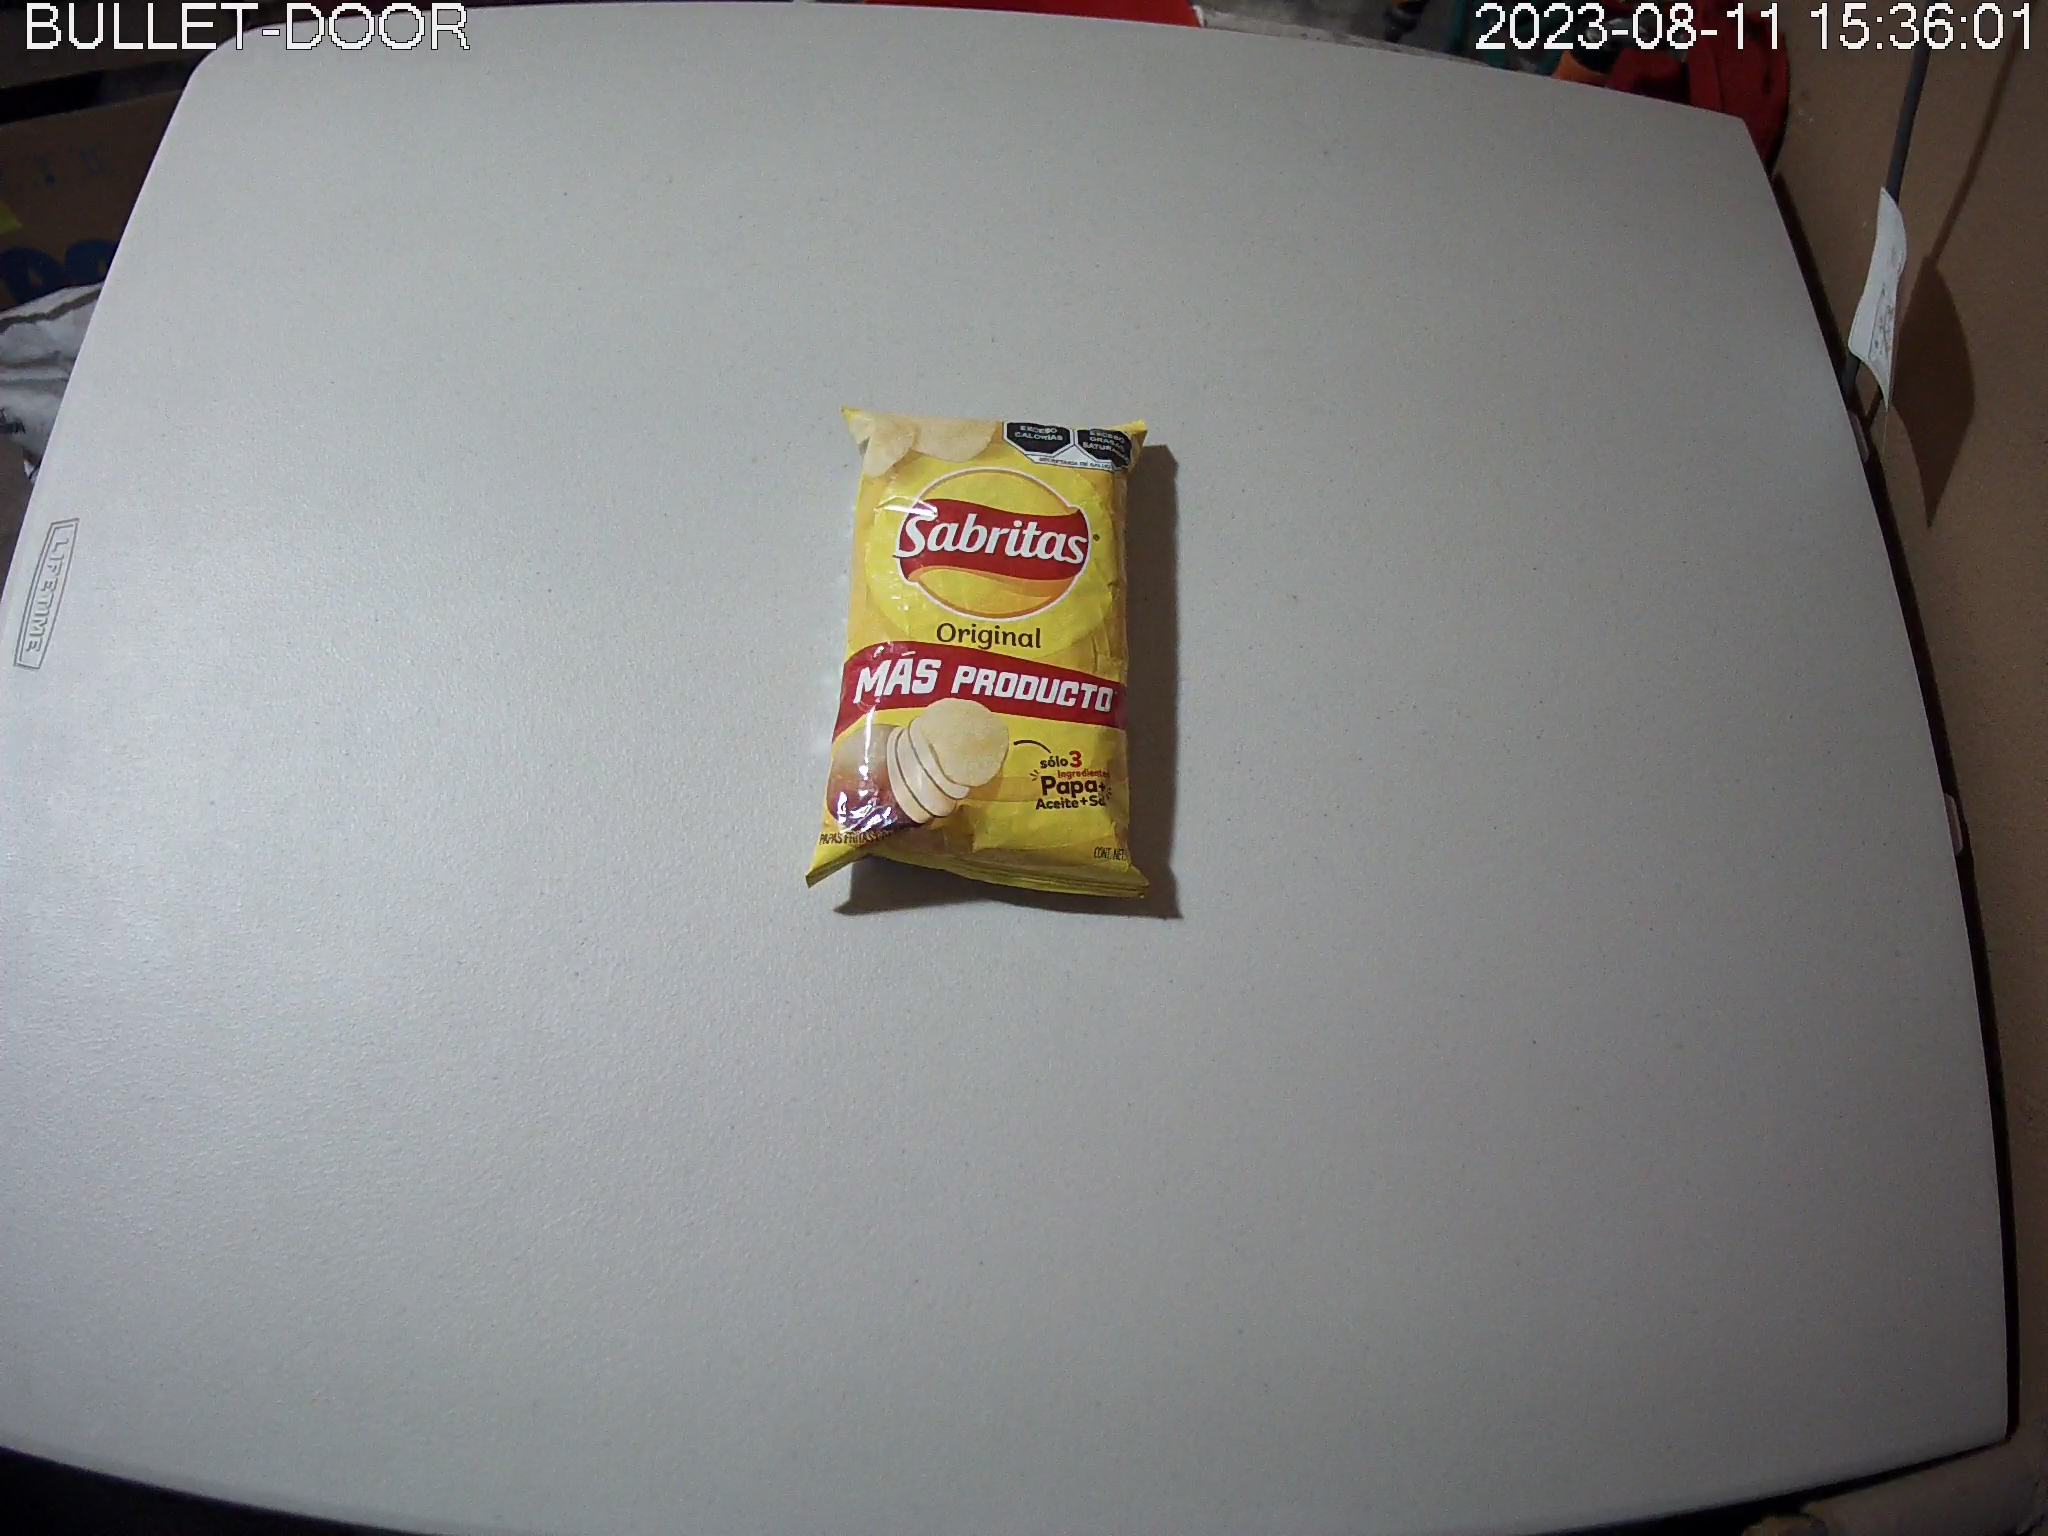Sabritas_45_F: (806, 403, 1153, 900)
